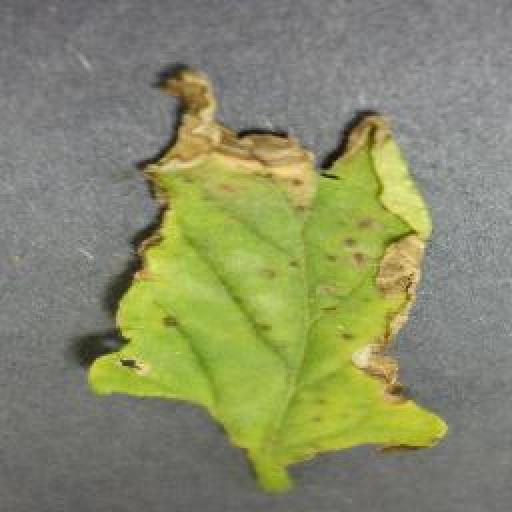Bacterial Spot: (81, 63, 448, 465)
